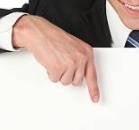up: (31, 31, 103, 106)
